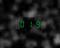nine: (33, 20, 39, 28)
one: (26, 19, 32, 28)
zero: (18, 19, 24, 27)
